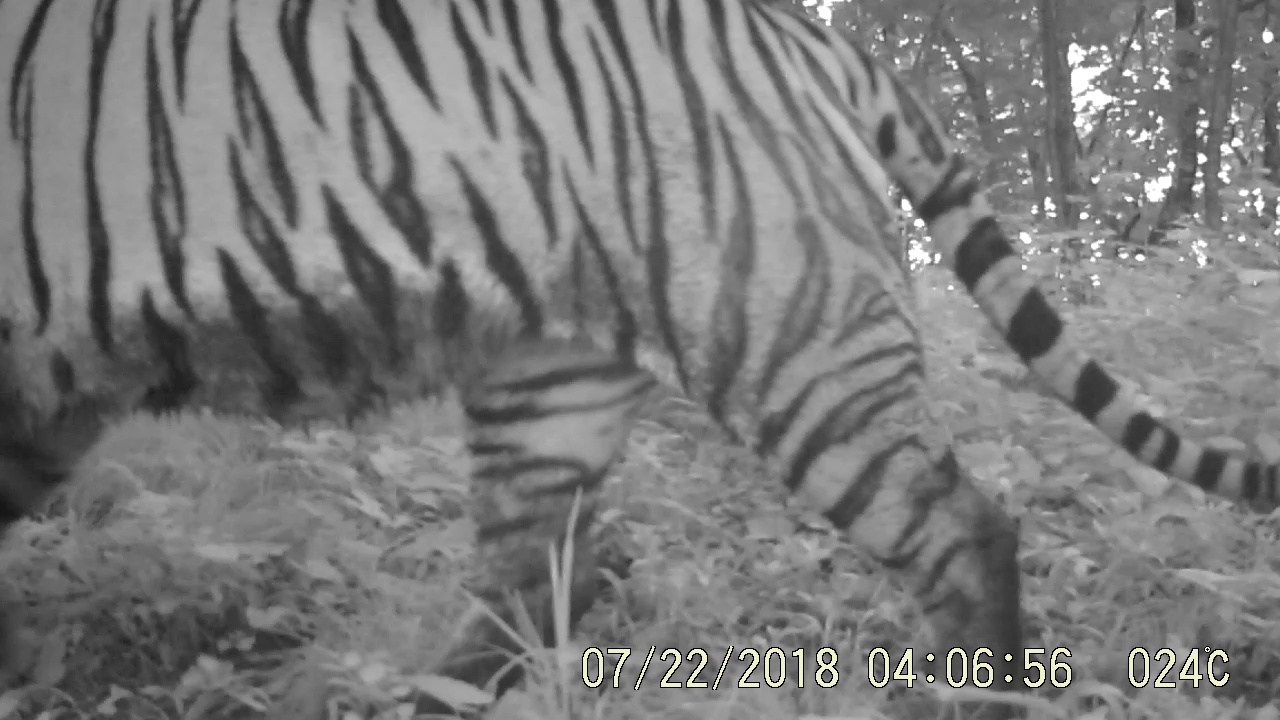Tiger: (2, 4, 1280, 629)
